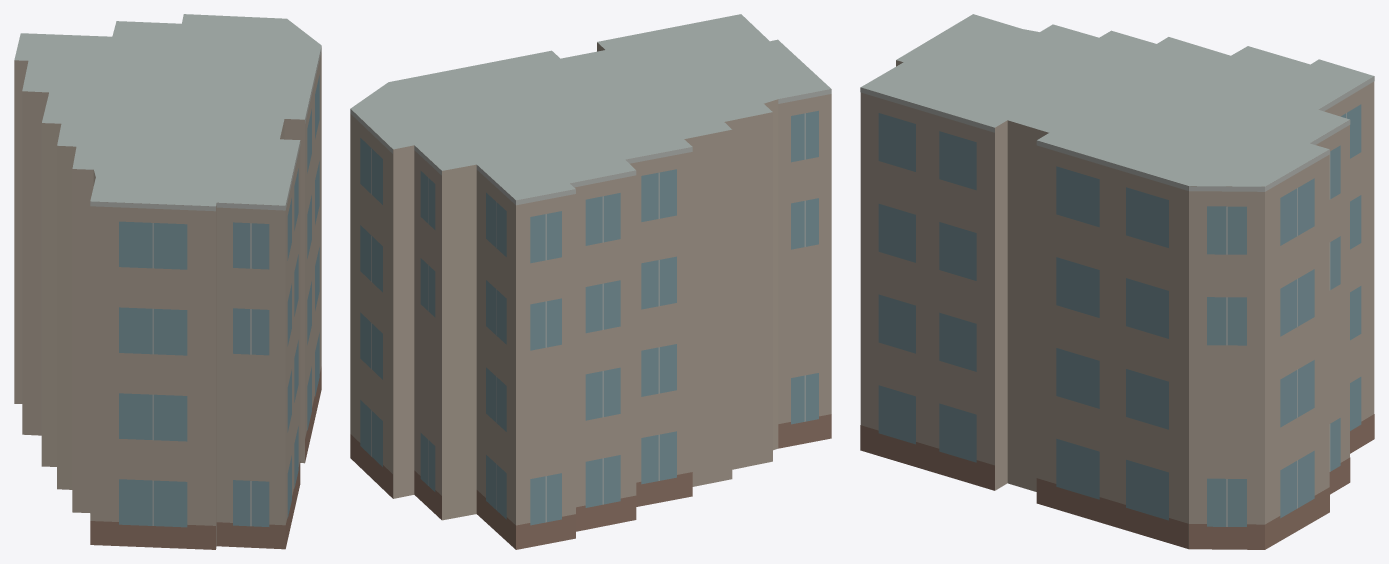
Rendered from survey-upis-32585630.glb.
3 renders of one model, left to right at view 1: azimuth 30°, elevation 25°; view 2: azimuth 150°, elevation 25°; view 3: azimuth 270°, elevation 25°, orthographic. The views are drawn at different scales.
Visible parts, largest first — view 1: survey-upis-32585630.tmp; view 2: survey-upis-32585630.tmp; view 3: survey-upis-32585630.tmp.
Part boxes in pixels (x1,y1,x2,y2): survey-upis-32585630.tmp: (14, 14, 321, 549); survey-upis-32585630.tmp: (350, 14, 831, 549); survey-upis-32585630.tmp: (860, 14, 1374, 549).
Size of the model in its own units: 17.66 by 17.3 by 22.2.
